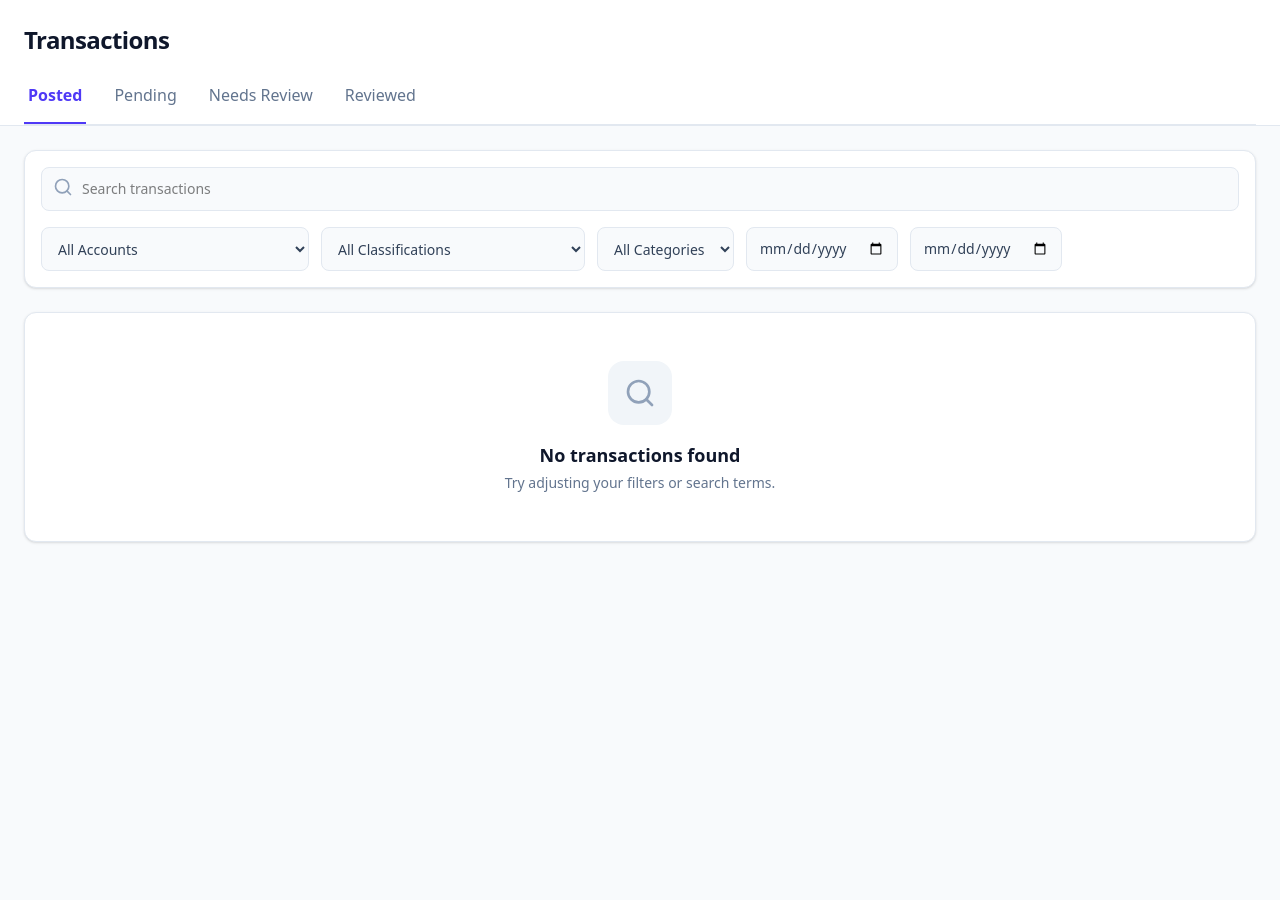
TransactionsPage › clears unrelated filters when opening the complete Needs Review queue
Select "Example Bank · Checking ••••1234" in the 1st dropdown: (175, 249) 41,227 -> 309,271
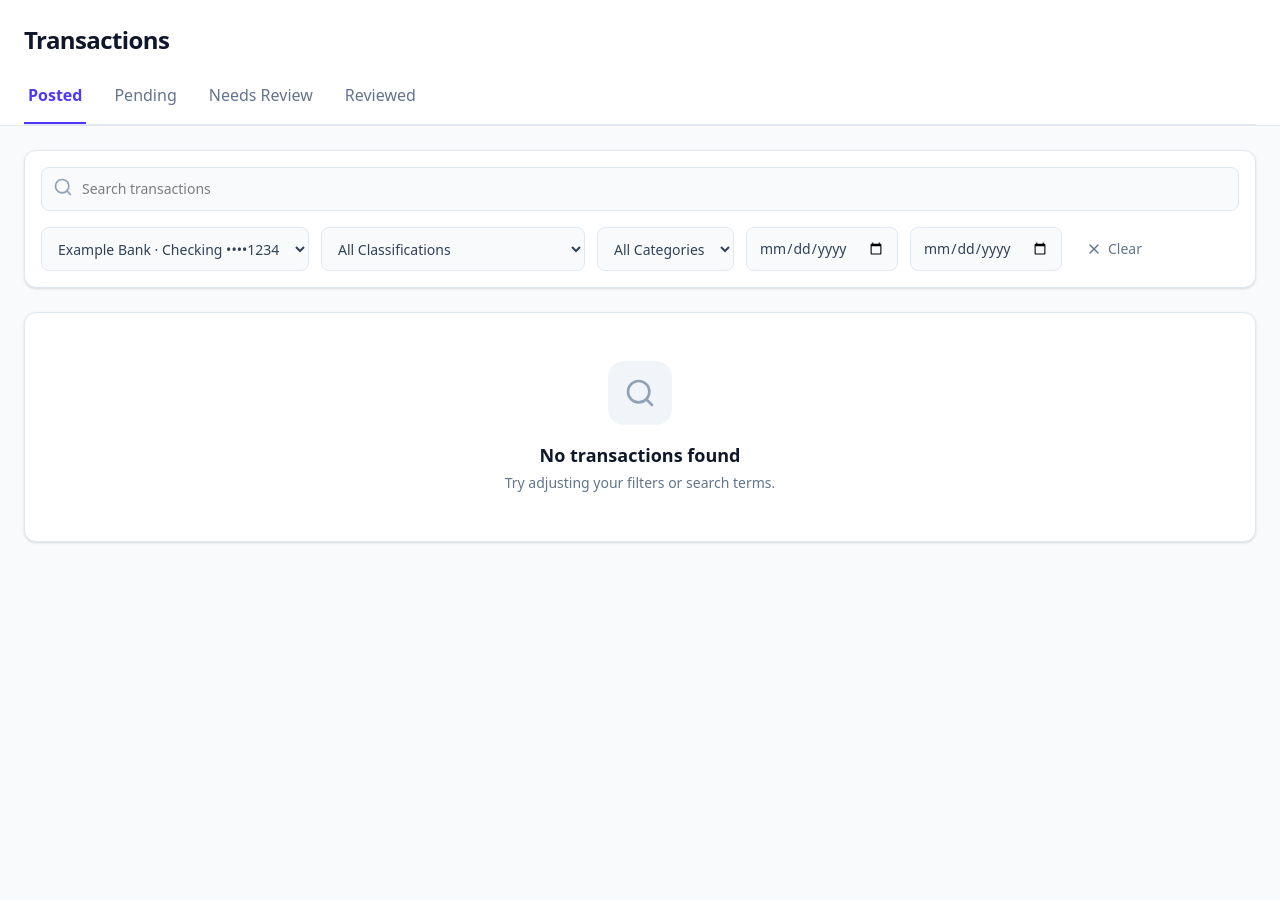
Click the button "Needs Review": (261, 102) 205,80 -> 317,124
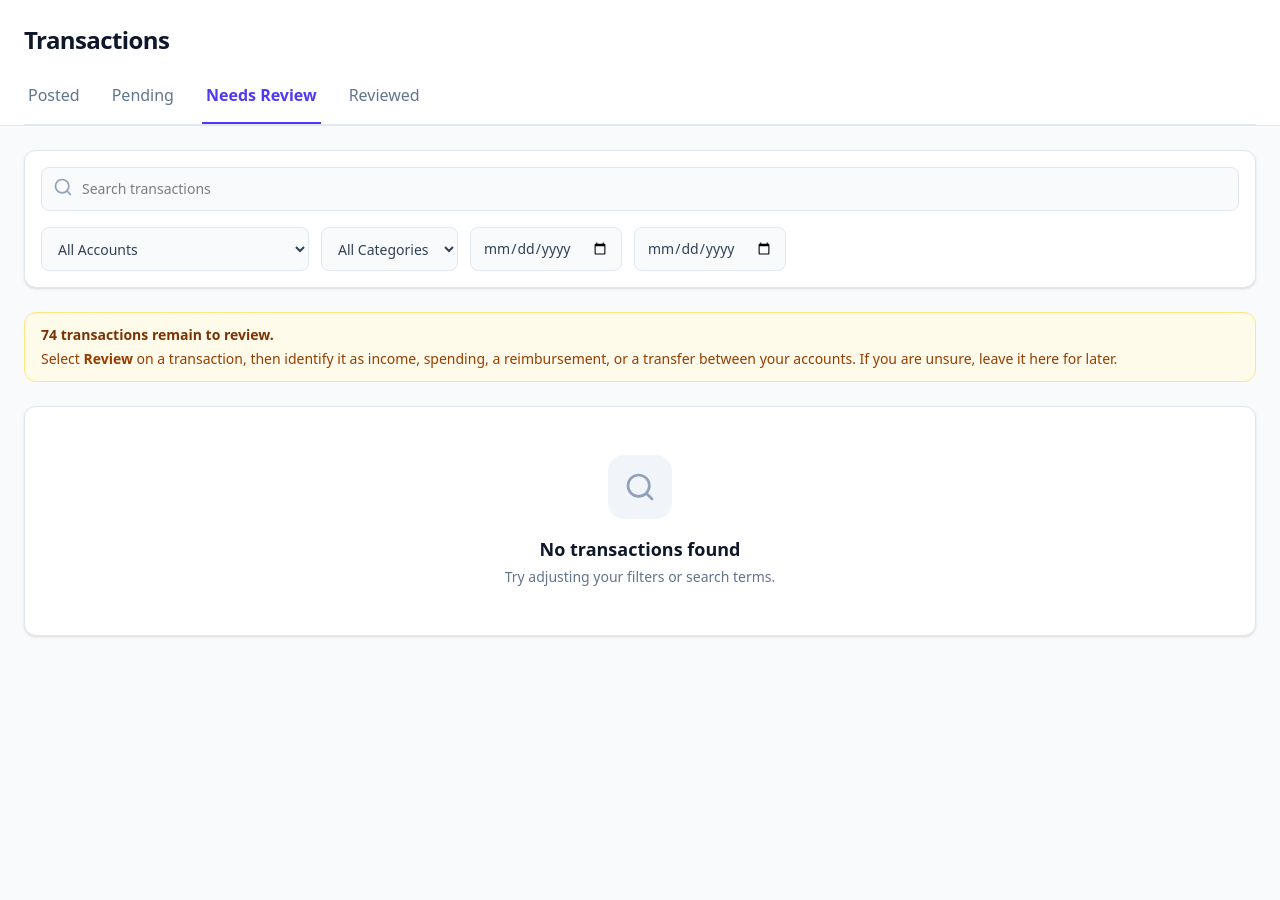
Now the text "74 transactions remain to review." is shown, box 41,325 -> 274,344
